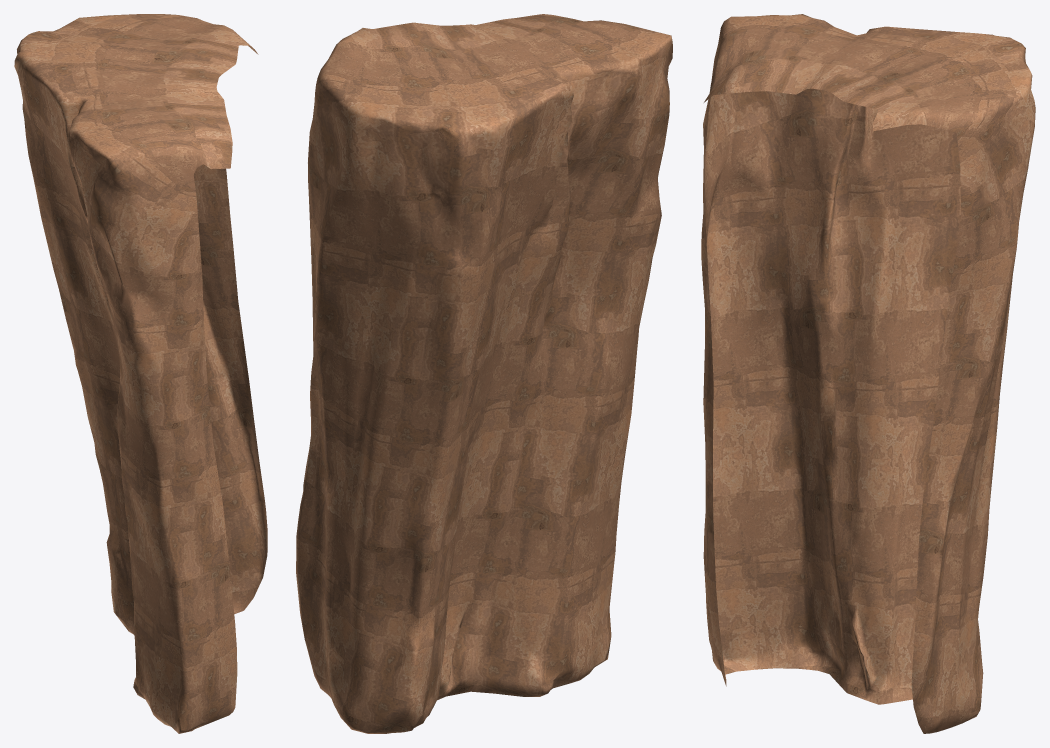
The model's file is Ob_RockCliff10.fbx.
3 renders of one model, left to right at view 1: azimuth 30°, elevation 25°; view 2: azimuth 150°, elevation 25°; view 3: azimuth 270°, elevation 25°, orthographic. The views are drawn at different scales.
Parts seen in each view (by area): view 1: Ob_RockCliff10; view 2: Ob_RockCliff10; view 3: Ob_RockCliff10.
Boxes of the visible parts, x1=… form: Ob_RockCliff10: x1=14, y1=14, x2=267, y2=733; Ob_RockCliff10: x1=296, y1=14, x2=672, y2=733; Ob_RockCliff10: x1=701, y1=14, x2=1035, y2=733.
Bounding box in the file's own units: 34284 × 78316 × 37693.
